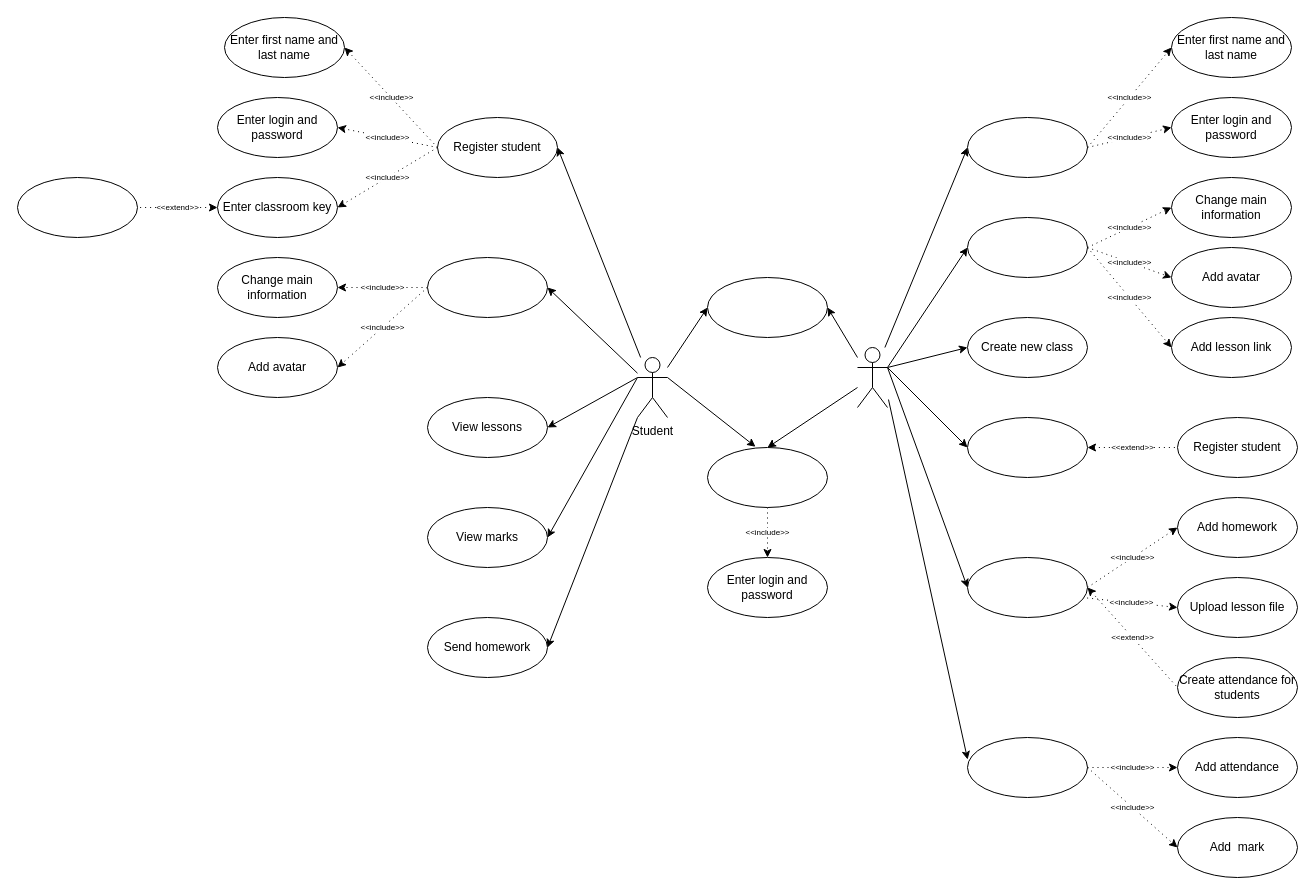
The diagram is 1315 pixels wide and 895 high, and some of its shapes have lost their labels. The centre of each missing label's shape, as x and y in pixels:
Add new lesson: (1027,587)
Add new student to class: (1027,447)
Add student to class: (77,207)
Check homework: (1027,767)
Edit student profile: (487,287)
Edit teacher profile: (1027,247)
Log In: (767,477)
Register teacher: (1027,147)
Send message: (767,307)
Teacher: (872,377)
